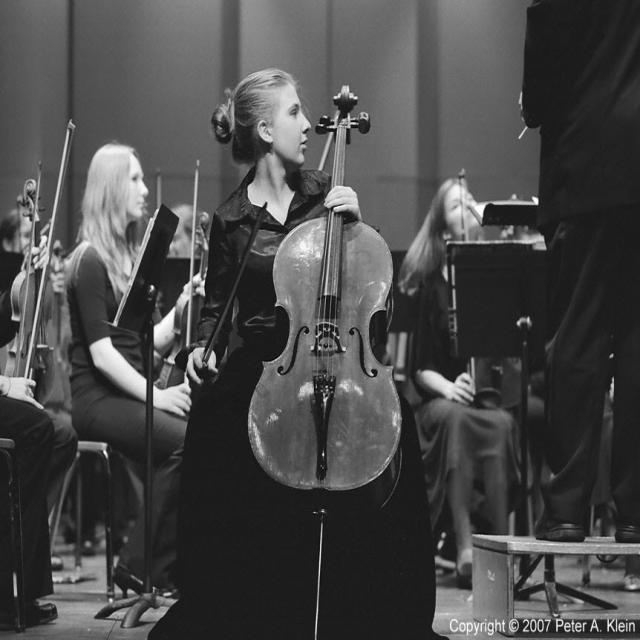cello: (243, 82, 408, 522)
violin: (5, 180, 60, 412), (158, 209, 219, 404)
